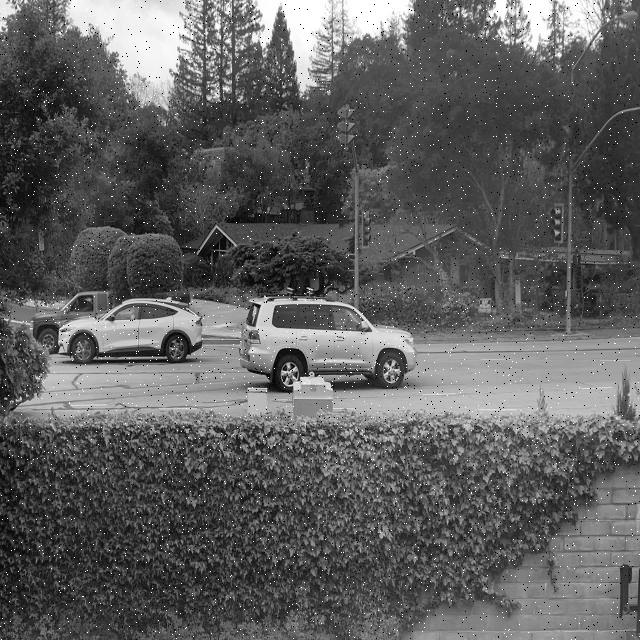SUV: (239, 287, 417, 393), (59, 297, 202, 363)
